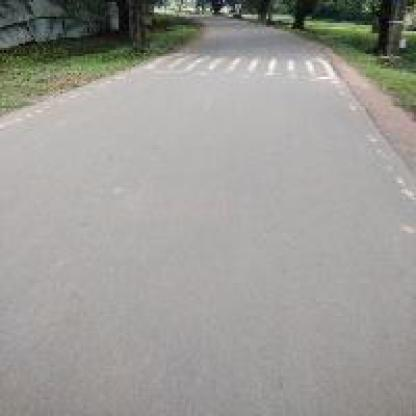Speed Bump: (135, 46, 341, 87)
